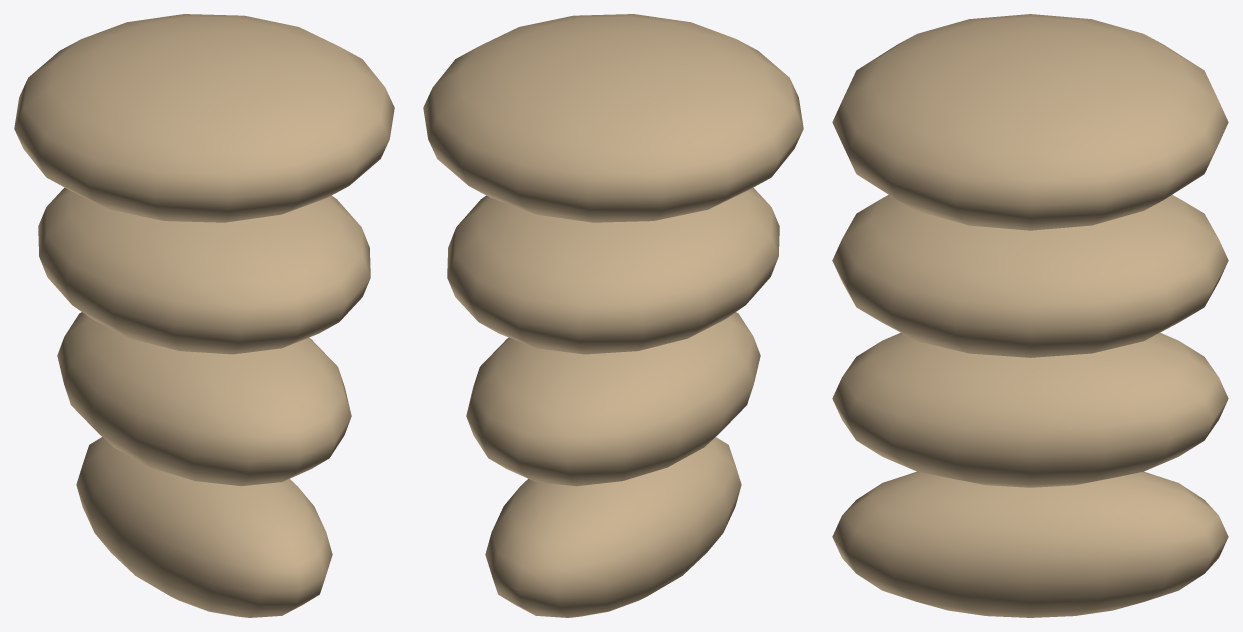
Rendered from coccyx.glb.
3 renders of one model, left to right at view 1: azimuth 30°, elevation 25°; view 2: azimuth 150°, elevation 25°; view 3: azimuth 270°, elevation 25°, orthographic. The views are drawn at different scales.
Parts seen in each view (by area): view 1: coccyx:segment-1, coccyx:segment-2, coccyx:segment-3, coccyx:segment-4; view 2: coccyx:segment-1, coccyx:segment-2, coccyx:segment-3, coccyx:segment-4; view 3: coccyx:segment-1, coccyx:segment-2, coccyx:segment-3, coccyx:segment-4.
Part boxes in pixels (bbox=[...]): coccyx:segment-1: bbox=[14, 14, 394, 222]; coccyx:segment-2: bbox=[38, 187, 370, 354]; coccyx:segment-3: bbox=[57, 312, 351, 486]; coccyx:segment-4: bbox=[76, 437, 332, 617]; coccyx:segment-1: bbox=[423, 14, 803, 222]; coccyx:segment-2: bbox=[447, 187, 779, 354]; coccyx:segment-3: bbox=[466, 312, 760, 486]; coccyx:segment-4: bbox=[485, 437, 741, 617]; coccyx:segment-1: bbox=[832, 14, 1228, 230]; coccyx:segment-2: bbox=[832, 195, 1228, 357]; coccyx:segment-3: bbox=[832, 332, 1228, 487]; coccyx:segment-4: bbox=[832, 471, 1228, 617].
Bounding box in the file's own units: 0.1248 × 0.192 × 0.1248.
